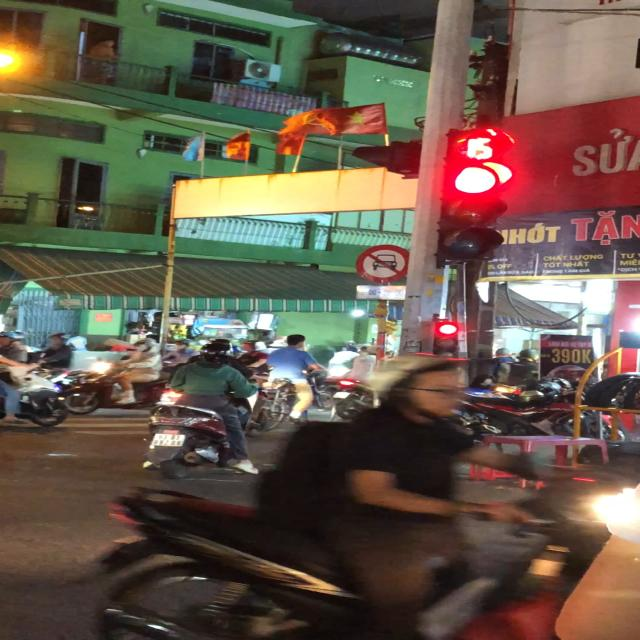Bien bao cam xe oto: (354, 243, 413, 285)
